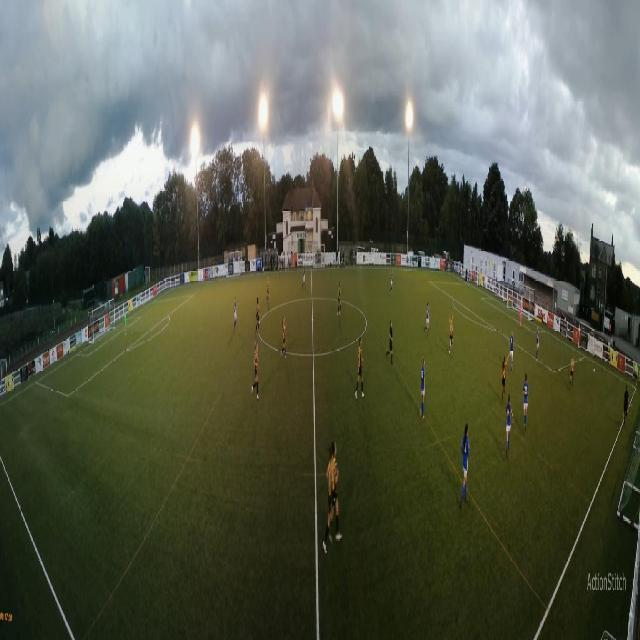ball: (594, 365, 596, 375)
player: (323, 441, 341, 556), (461, 422, 468, 501), (358, 334, 364, 402), (254, 340, 260, 400), (421, 355, 426, 423), (523, 371, 528, 431), (388, 316, 394, 363), (256, 294, 262, 339), (506, 390, 510, 450), (282, 316, 287, 358), (503, 353, 507, 403), (449, 314, 453, 356), (536, 322, 540, 359), (571, 352, 575, 388), (426, 299, 430, 335), (266, 272, 270, 308), (234, 295, 238, 331), (338, 281, 342, 316), (302, 262, 307, 289), (510, 331, 513, 369), (123, 308, 127, 335), (519, 300, 522, 330), (391, 266, 393, 297)
